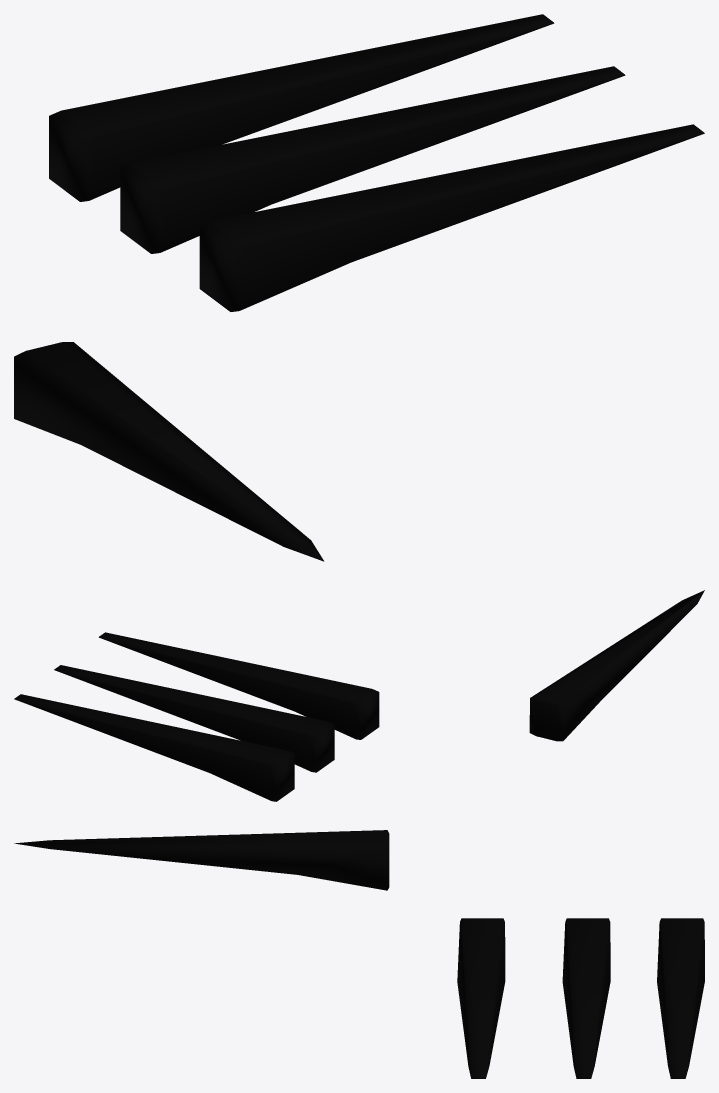
The model's file is G_ClawLeft.fbx.
The picture shows the model from 3 angles, top to bottom: view 1: azimuth 30°, elevation 25°; view 2: azimuth 150°, elevation 25°; view 3: azimuth 270°, elevation 25°; orthographic projection. The views are drawn at different scales.
Parts seen in each view (by area): view 1: ClawLeft; view 2: ClawLeft; view 3: ClawLeft.
Boxes of the visible parts, x1,y1,x2,y2 form: ClawLeft: (14,14,704,561); ClawLeft: (14,590,704,801); ClawLeft: (14,830,704,1078).
Size of the model in its own units: 31.13 by 2.68 by 37.2.
